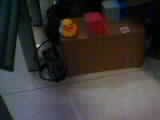duck: (44, 9, 90, 51)
